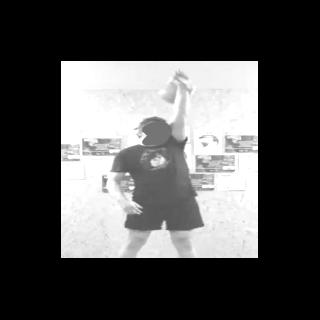kettlebell: (160, 73, 198, 107)
